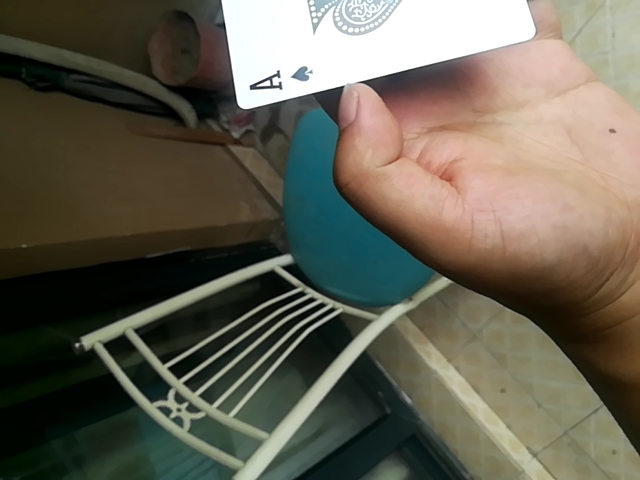ht a: (217, 0, 538, 114)
